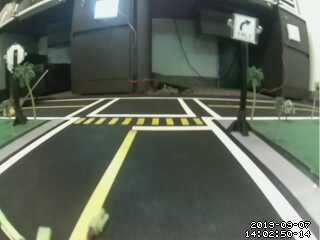Right_only_sign: (233, 10, 257, 51)
